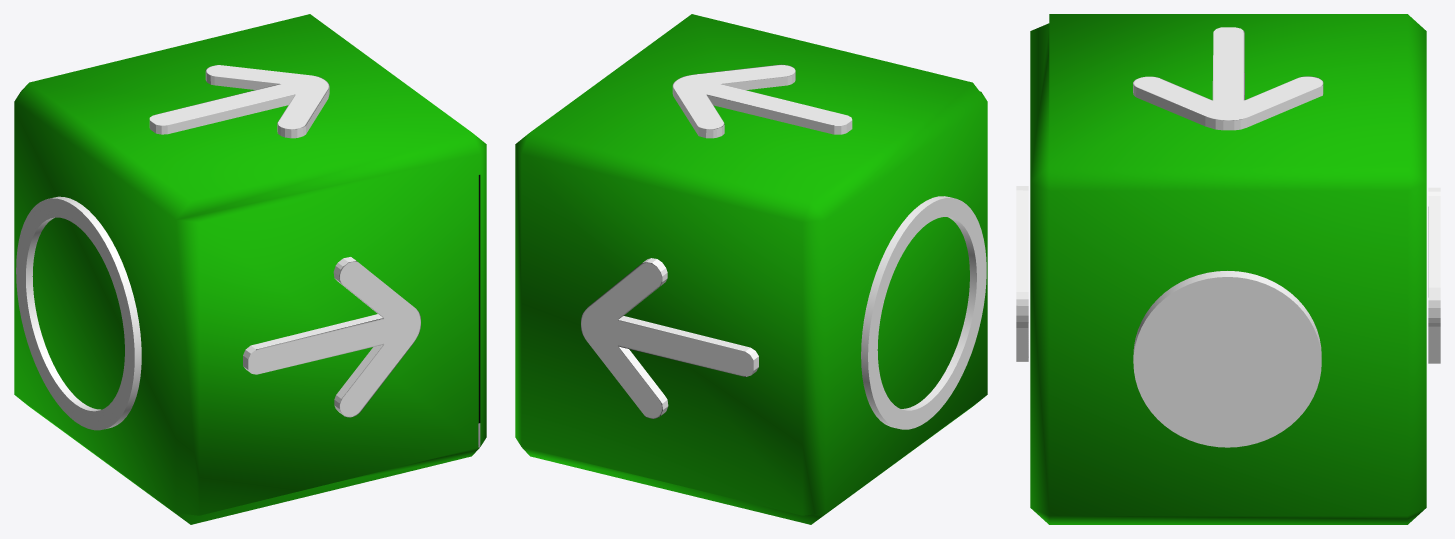
The model's file is BigBoxTapFlowBox_1_1_1_Clean_test.fbx.
3 views of the same model, side by side, from view 1: azimuth 30°, elevation 25°; view 2: azimuth 150°, elevation 25°; view 3: azimuth 270°, elevation 25° (orthographic). The views are drawn at different scales.
Parts seen in each view (by area): view 1: BigBoxTapFlowBox_1_1_1_Clean_test; view 2: BigBoxTapFlowBox_1_1_1_Clean_test; view 3: BigBoxTapFlowBox_1_1_1_Clean_test.
Part boxes in pixels (<box>): BigBoxTapFlowBox_1_1_1_Clean_test: <box>14,14,486,524</box>; BigBoxTapFlowBox_1_1_1_Clean_test: <box>515,14,987,524</box>; BigBoxTapFlowBox_1_1_1_Clean_test: <box>1016,14,1440,524</box>.
Bounding box in the file's own units: 1.16 × 1.14 × 1.12.
Materials: 1 (1 with a texture image).
